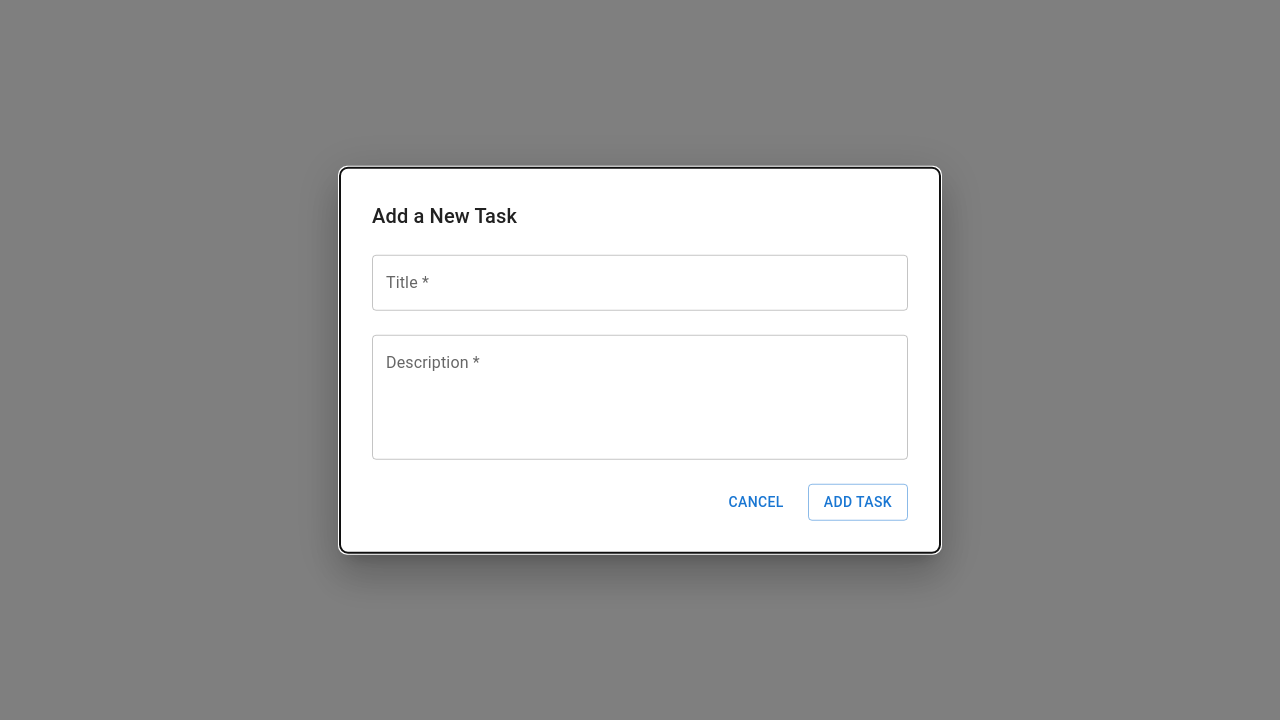
Test case: TaskModal › shows validation error for title less than 3 characters
Type "ab" into the field labelled "Title *" at (640, 283), box left=372, top=255, right=908, bottom=311
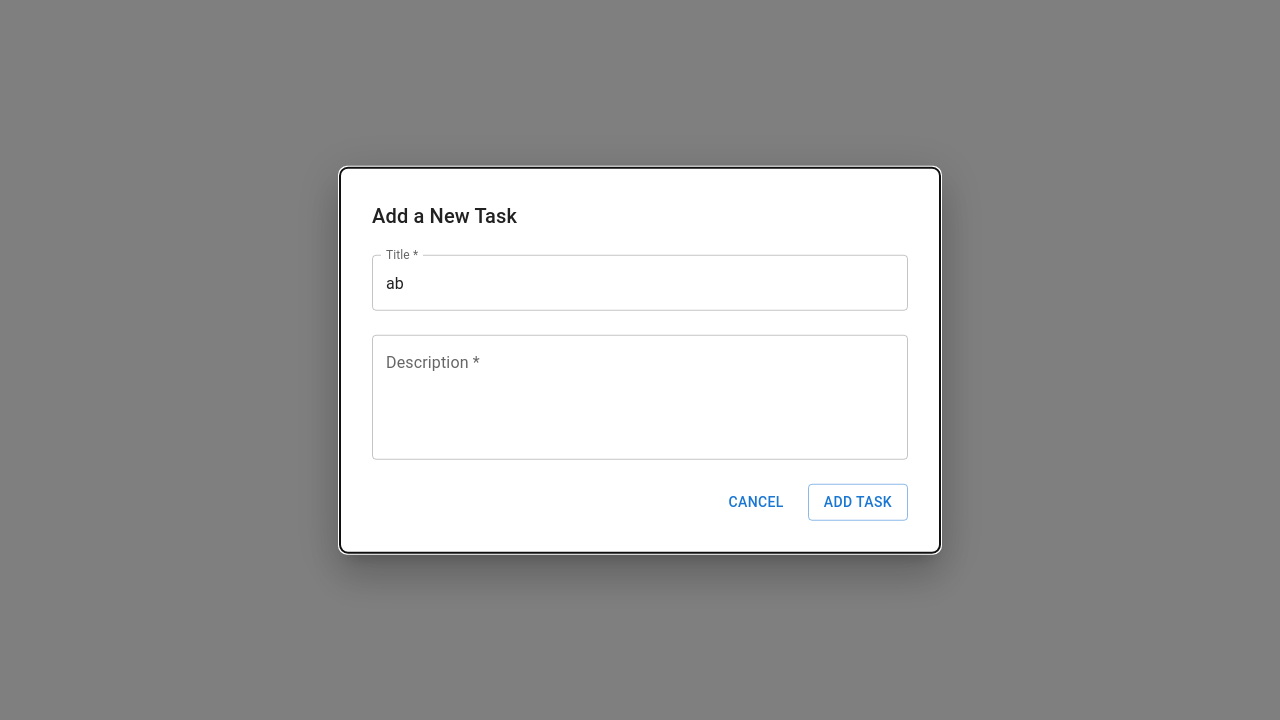
Click the button "Add Task" at (858, 502), box left=808, top=484, right=908, bottom=520
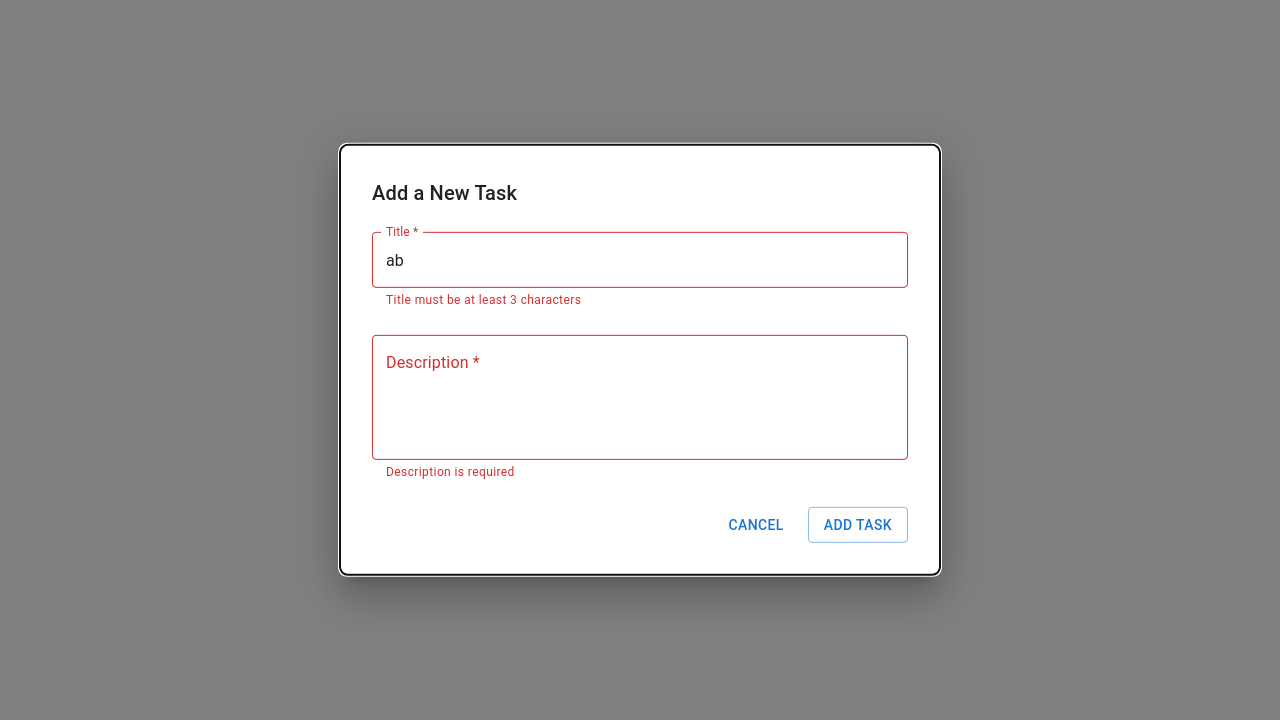
Check: the text "Title must be at least 3 characters" is shown, box left=386, top=293, right=581, bottom=307
